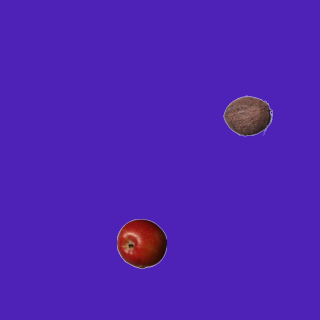Apple Braeburn: (116, 218, 166, 268)
Cocos: (222, 90, 272, 140)
